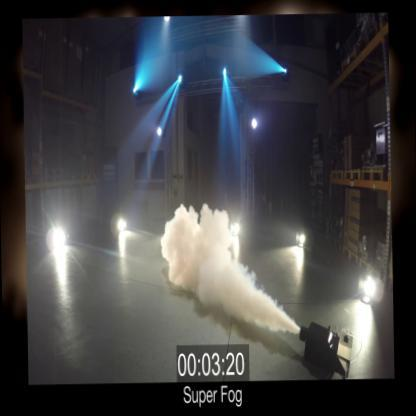smoke: (157, 201, 297, 335)
